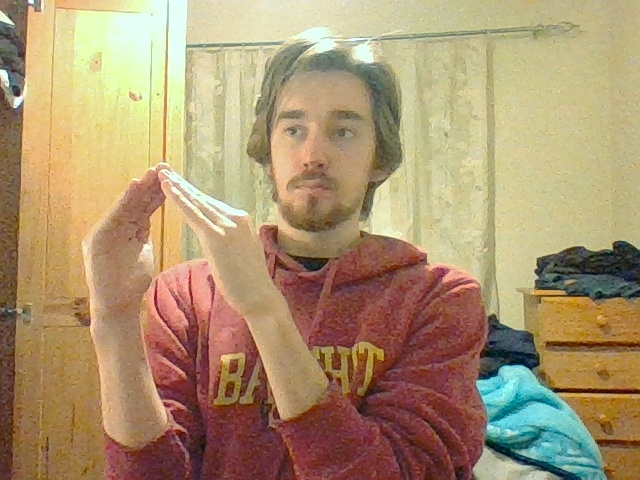home: (80, 163, 252, 263)
